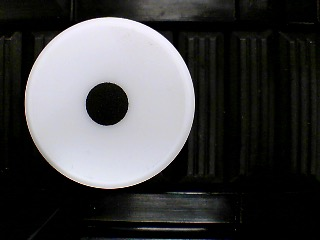BOHO: (24, 16, 196, 190)
